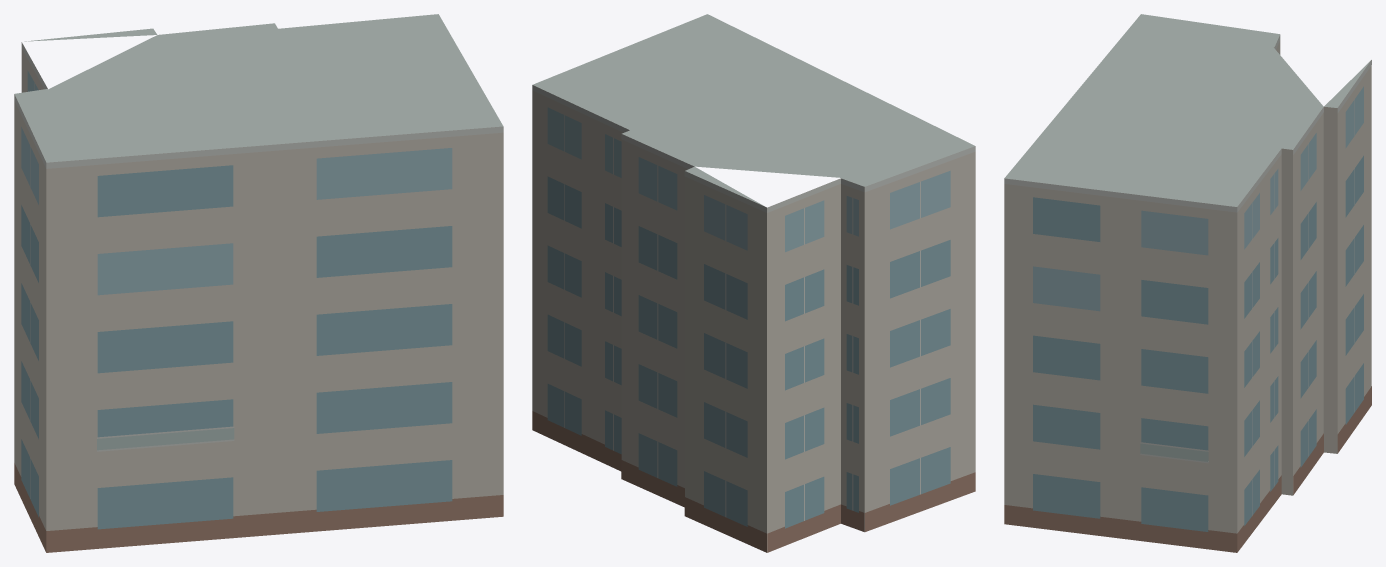
File: survey-upis-32710873.glb
3 renders of one model, left to right at view 1: azimuth 30°, elevation 25°; view 2: azimuth 150°, elevation 25°; view 3: azimuth 270°, elevation 25°, orthographic. The views are drawn at different scales.
Visible parts, largest first — view 1: survey-upis-32710873.tmp; view 2: survey-upis-32710873.tmp; view 3: survey-upis-32710873.tmp.
Boxes of the visible parts, left/top/right/bottom form: survey-upis-32710873.tmp: left=14, top=14, right=503, bottom=552; survey-upis-32710873.tmp: left=532, top=14, right=975, bottom=552; survey-upis-32710873.tmp: left=1004, top=14, right=1371, bottom=552.
Bounding box in the file's own units: 18.34 × 15.3 × 14.75.
